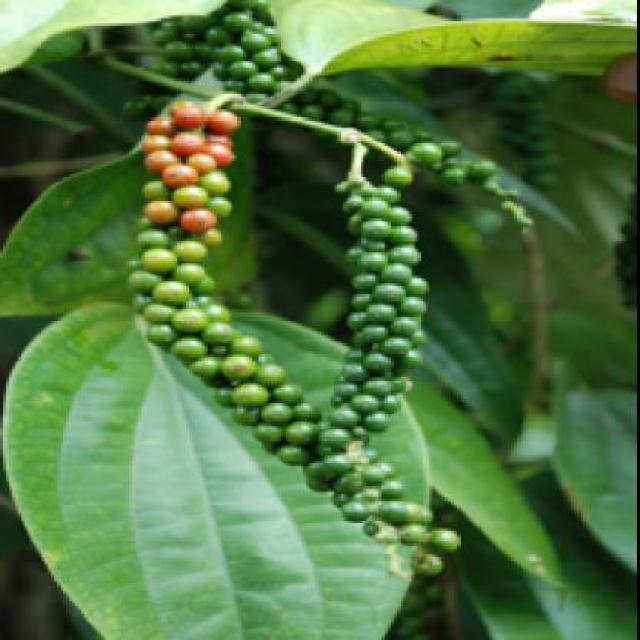RIPE: (142, 100, 228, 232)
UNRIPE: (129, 240, 457, 572), (277, 89, 492, 183), (148, 5, 280, 94), (331, 174, 411, 240)
